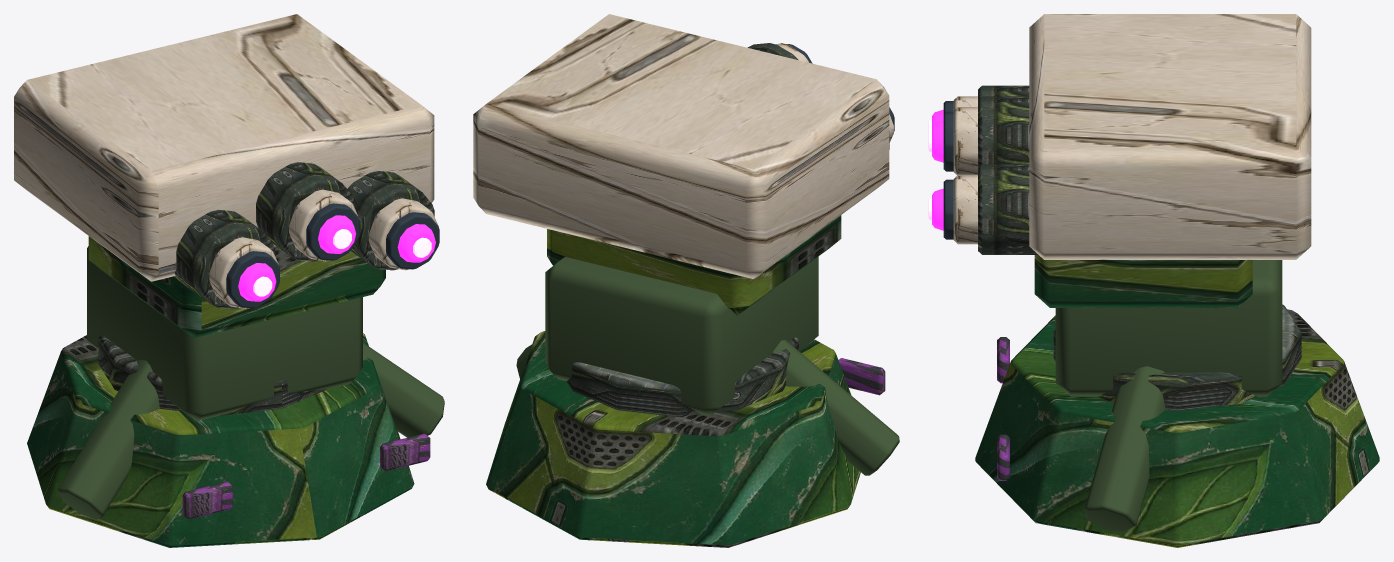
File: spore_sentry.glb
3 views of the same model, side by side, from view 1: azimuth 30°, elevation 25°; view 2: azimuth 150°, elevation 25°; view 3: azimuth 270°, elevation 25° (orthographic). The views are drawn at different scales.
Visible parts, largest first — view 1: Ceramic, Cobalt, Polymer bark, Brushed steel, Graphite, Containment trim, Toxic reactor, Spore core; view 2: Ceramic, Cobalt, Polymer bark, Brushed steel, Containment trim; view 3: Ceramic, Cobalt, Polymer bark, Brushed steel, Graphite, Containment trim, Toxic reactor.
Part boxes in pixels (x1,y1,x2,y2): Ceramic: (14, 14, 438, 309); Cobalt: (27, 236, 414, 547); Polymer bark: (58, 246, 444, 519); Brushed steel: (98, 162, 434, 415); Graphite: (226, 203, 439, 308); Containment trim: (182, 433, 430, 519); Toxic reactor: (238, 215, 435, 301); Spore core: (253, 229, 431, 296); Ceramic: (473, 14, 893, 278); Cobalt: (486, 215, 860, 547); Polymer bark: (516, 256, 899, 475); Brushed steel: (566, 43, 889, 416); Containment trim: (838, 358, 885, 395); Ceramic: (953, 14, 1311, 259); Cobalt: (975, 255, 1379, 547); Polymer bark: (1055, 260, 1282, 531); Brushed steel: (978, 85, 1301, 410); Graphite: (943, 101, 953, 239); Containment trim: (997, 337, 1009, 480); Toxic reactor: (932, 109, 943, 230).
Bounding box in the file's own units: 1.03 × 0.987 × 1.06.
Materials: 8 (4 with a texture image).
